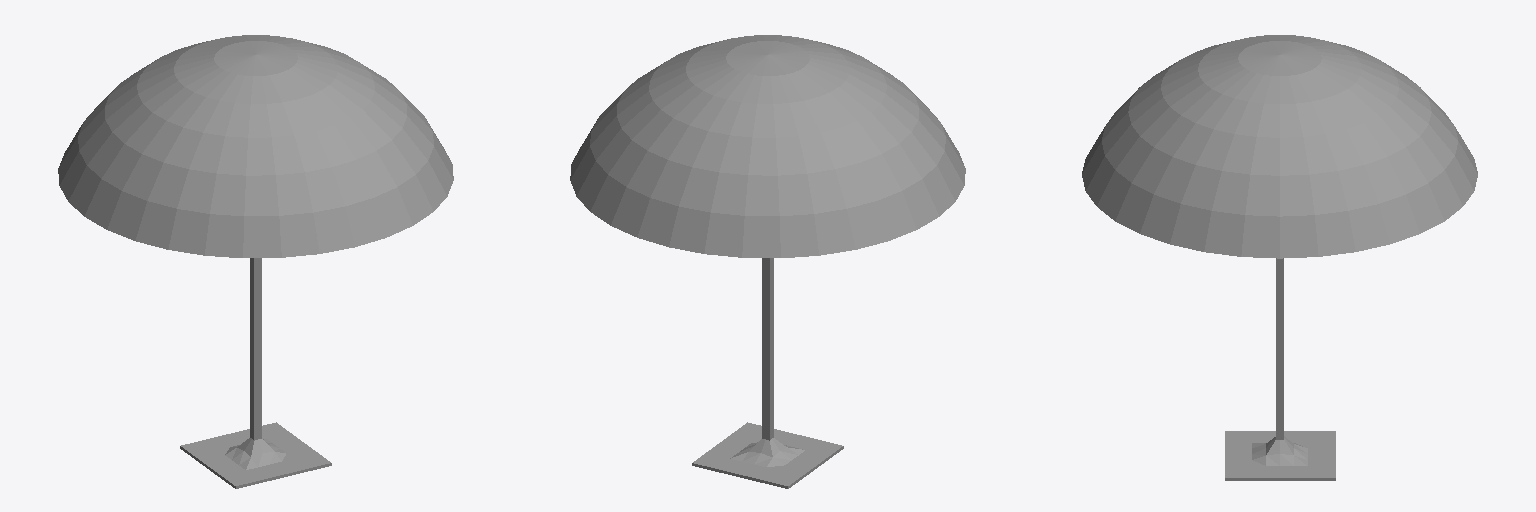
The model's file is omb_n_o.obj.
3 renders of one model, left to right at view 1: azimuth 30°, elevation 25°; view 2: azimuth 150°, elevation 25°; view 3: azimuth 270°, elevation 25°, orthographic.
Parts seen in each view (by area): view 1: Sphere; view 2: Sphere; view 3: Sphere.
Part boxes in pixels (left/top/right/bottom): Sphere: left=58, top=35, right=453, bottom=488; Sphere: left=570, top=35, right=965, bottom=488; Sphere: left=1082, top=35, right=1477, bottom=480.
Size of the model in its own units: 3.57 by 4 by 3.57.